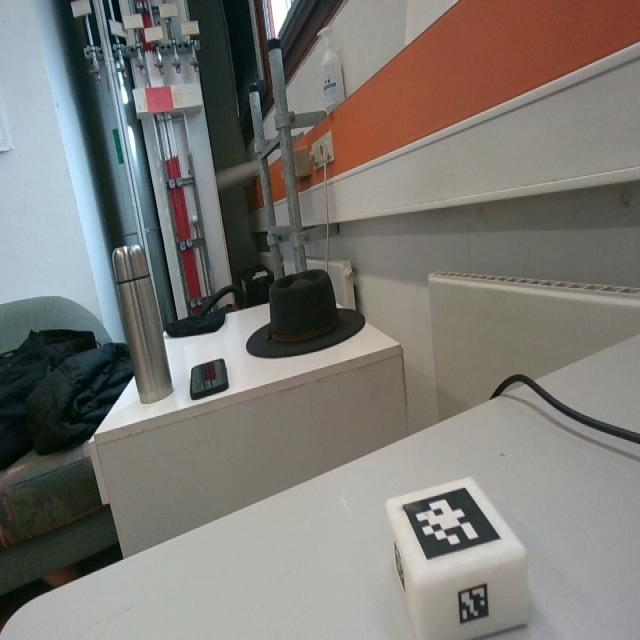Cube: (384, 472, 527, 639)
